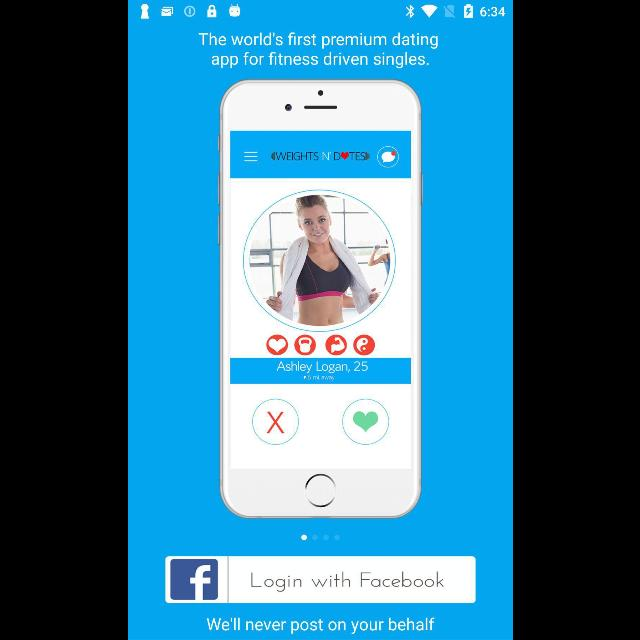image: (217, 79, 423, 519)
pageindicator: (300, 534, 340, 540)
text: (197, 32, 437, 68), (206, 617, 434, 635)
textbutton: (165, 556, 475, 604)
uppertaskbar: (128, 1, 512, 23)
